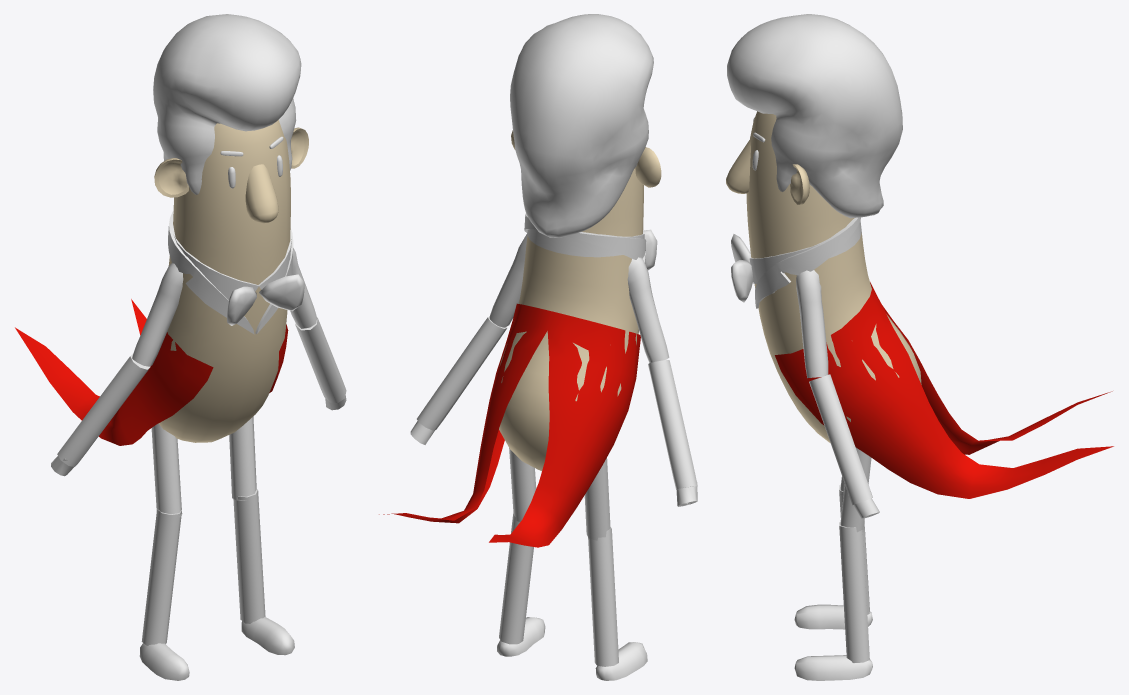
The model's file is Charlie.fbx.
The picture shows the model from 3 angles, left to right: view 1: azimuth 30°, elevation 25°; view 2: azimuth 150°, elevation 25°; view 3: azimuth 270°, elevation 25°; orthographic projection. The views are drawn at different scales.
Visible parts, largest first — view 1: Player_Protagonist_01; view 2: Player_Protagonist_01; view 3: Player_Protagonist_01.
Boxes of the visible parts, x1,y1,x2,y2 form: Player_Protagonist_01: (15,14,346,680); Player_Protagonist_01: (379,14,697,680); Player_Protagonist_01: (726,14,1113,680).
Bounding box in the file's own units: 0.3348 × 0.6997 × 0.393.
